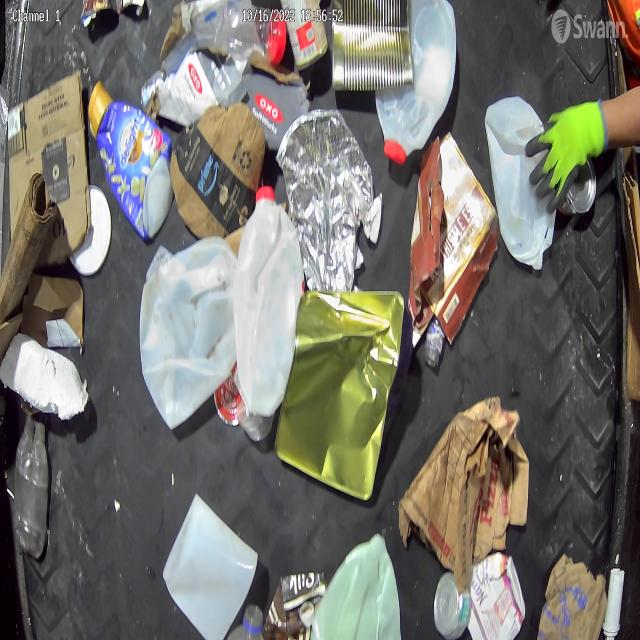can: (332, 0, 413, 93), (283, 0, 328, 72), (434, 574, 472, 639), (559, 157, 598, 218)
milk_jug: (140, 235, 239, 431), (234, 185, 304, 418), (162, 492, 259, 640), (375, 0, 457, 163), (485, 97, 552, 272), (312, 532, 402, 640)
non_white_jug: (88, 79, 176, 243)
plastic_bottle: (202, 0, 286, 55)
